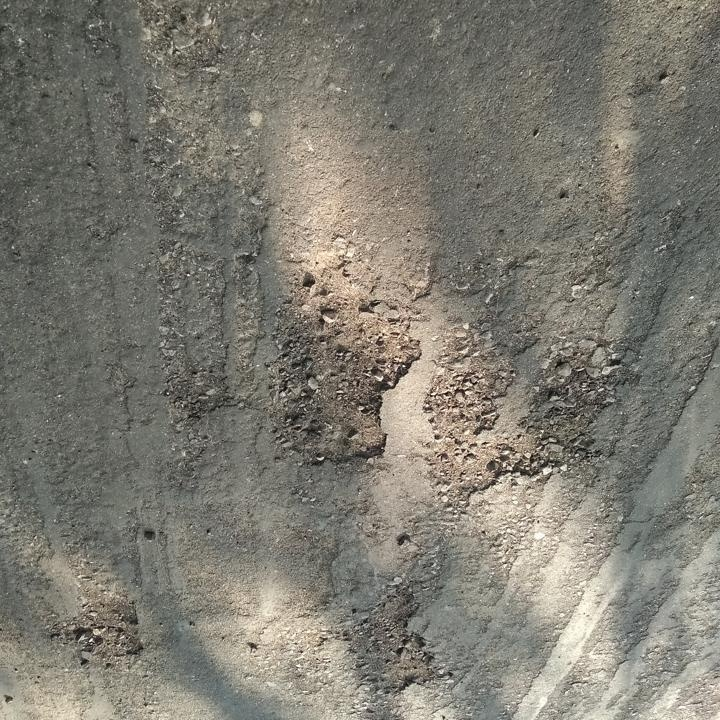pothole: (262, 252, 425, 471), (505, 344, 627, 481), (420, 336, 516, 499), (338, 580, 446, 694), (46, 594, 147, 662)
